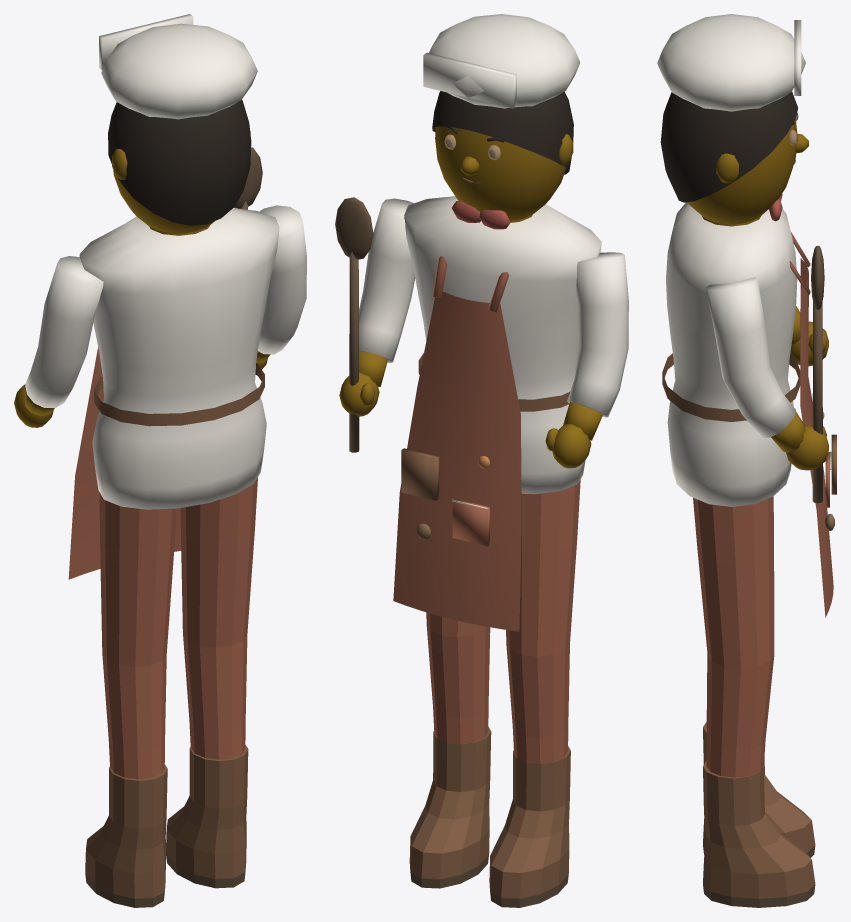
File: SM_NPC_HORNO.glb
The picture shows the model from 3 angles, left to right: view 1: azimuth 30°, elevation 25°; view 2: azimuth 150°, elevation 25°; view 3: azimuth 270°, elevation 25°; orthographic projection.
Visible parts, largest first — view 1: SM_NPC_HORNO_BODY, SM_NPC_HORNO_LEG_L, SM_NPC_HORNO_LEG_R, SM_NPC_HORNO_HAIR, SM_NPC_HORNO_ARM_L, SM_NPC_HORNO_ARM_R, SM_NPC_HORNO_HEAD; view 2: SM_NPC_HORNO_BODY, SM_NPC_HORNO_LEG_L, SM_NPC_HORNO_HAIR, SM_NPC_HORNO_LEG_R, SM_NPC_HORNO_ARM_R, SM_NPC_HORNO_ARM_L, SM_NPC_HORNO_HEAD; view 3: SM_NPC_HORNO_BODY, SM_NPC_HORNO_LEG_R, SM_NPC_HORNO_HAIR, SM_NPC_HORNO_ARM_R, SM_NPC_HORNO_HEAD, SM_NPC_HORNO_LEG_L, SM_NPC_HORNO_ARM_L.
Boxes of the visible parts, x1,y1,x2,y2 form: SM_NPC_HORNO_BODY: (68, 208, 279, 579); SM_NPC_HORNO_LEG_L: (85, 492, 176, 907); SM_NPC_HORNO_LEG_R: (166, 477, 257, 888); SM_NPC_HORNO_HAIR: (99, 14, 257, 225); SM_NPC_HORNO_ARM_L: (14, 256, 103, 427); SM_NPC_HORNO_ARM_R: (234, 147, 306, 369); SM_NPC_HORNO_HEAD: (112, 131, 250, 233); SM_NPC_HORNO_BODY: (393, 196, 601, 631); SM_NPC_HORNO_LEG_L: (489, 479, 580, 907); SM_NPC_HORNO_HAIR: (423, 14, 580, 174); SM_NPC_HORNO_LEG_R: (409, 612, 491, 888); SM_NPC_HORNO_ARM_R: (335, 197, 415, 452); SM_NPC_HORNO_ARM_L: (545, 252, 628, 468); SM_NPC_HORNO_HEAD: (435, 126, 573, 220); SM_NPC_HORNO_BODY: (662, 194, 836, 617); SM_NPC_HORNO_LEG_R: (693, 496, 815, 907); SM_NPC_HORNO_HAIR: (657, 14, 805, 202); SM_NPC_HORNO_ARM_R: (705, 245, 828, 503); SM_NPC_HORNO_HEAD: (687, 119, 808, 224); SM_NPC_HORNO_LEG_L: (703, 496, 815, 857); SM_NPC_HORNO_ARM_L: (790, 306, 828, 365).
Size of the model in its own units: 0.6008 by 1.86 by 0.3582.
